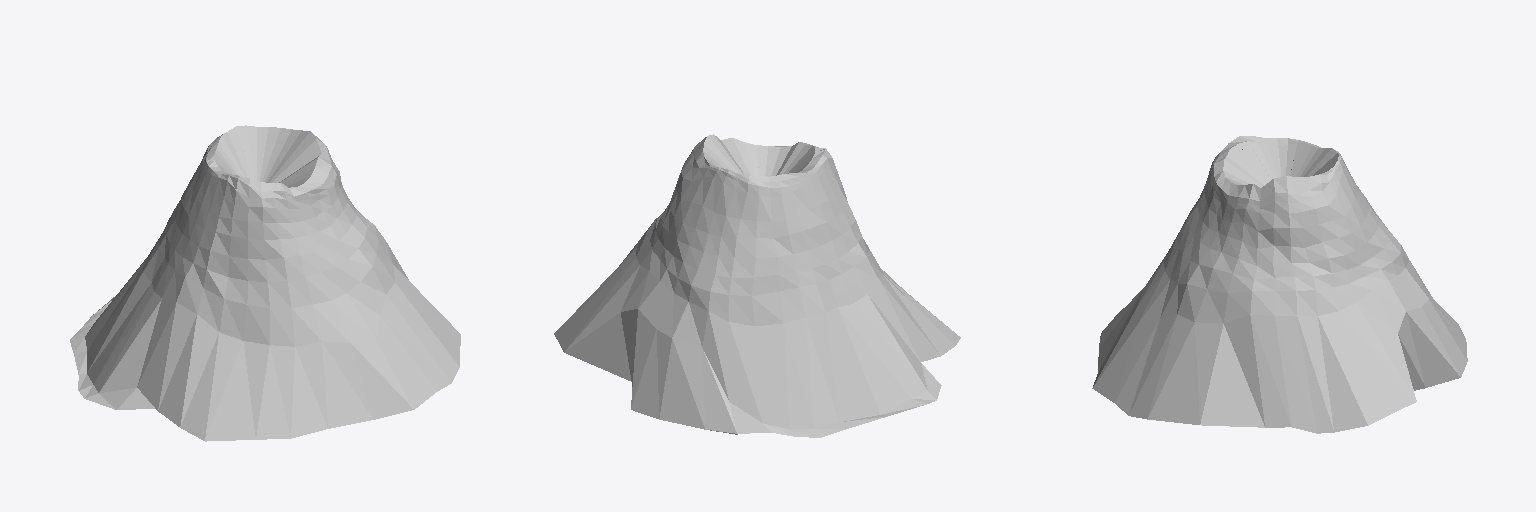
File: CL_Volcano_Flat.OBJ
The picture shows the model from 3 angles: view 1: azimuth 30°, elevation 25°; view 2: azimuth 150°, elevation 25°; view 3: azimuth 270°, elevation 25°; orthographic projection.
Visible parts, largest first — view 1: Group62535; view 2: Group62535; view 3: Group62535.
Part boxes in pixels (bbox=[...]): Group62535: bbox=[70, 125, 460, 441]; Group62535: bbox=[554, 134, 960, 437]; Group62535: bbox=[1092, 136, 1467, 433].
Size of the model in its own units: 5.1 by 3.1 by 4.87.